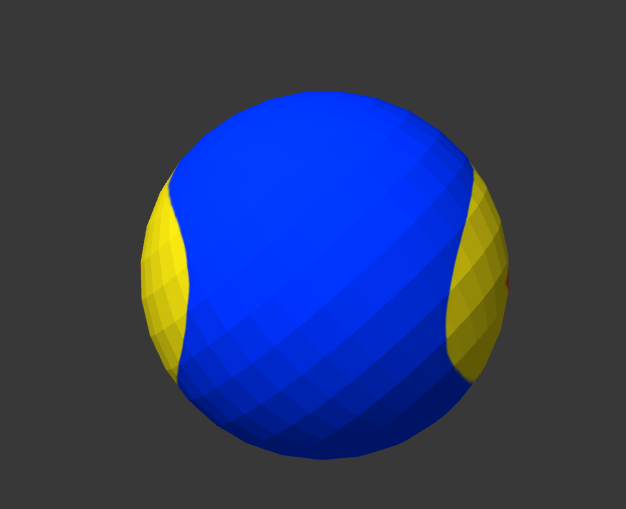toy story ball: (140, 91, 509, 460)
